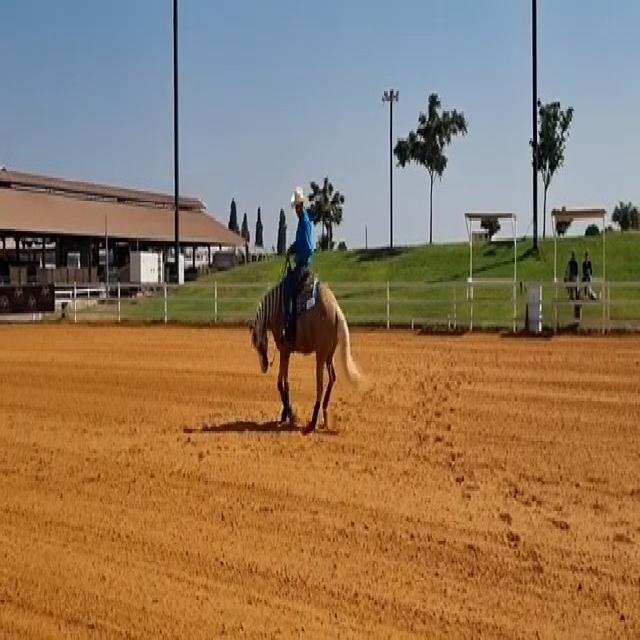horse: (246, 266, 363, 436)
